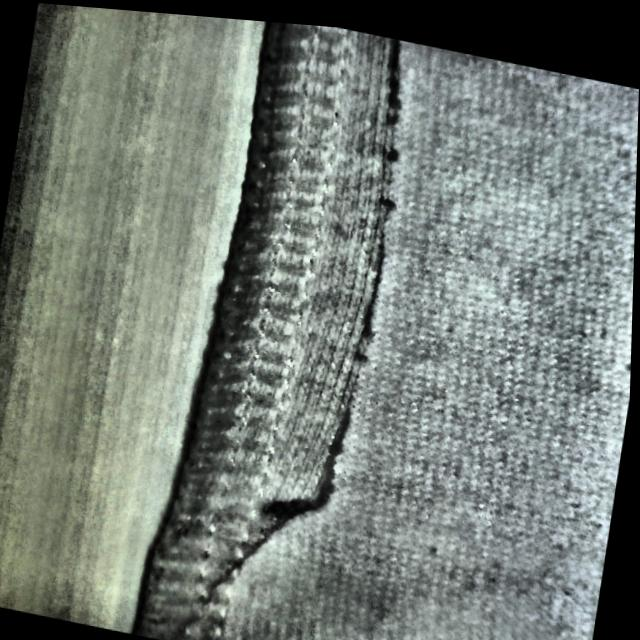seam: (188, 13, 449, 561)
